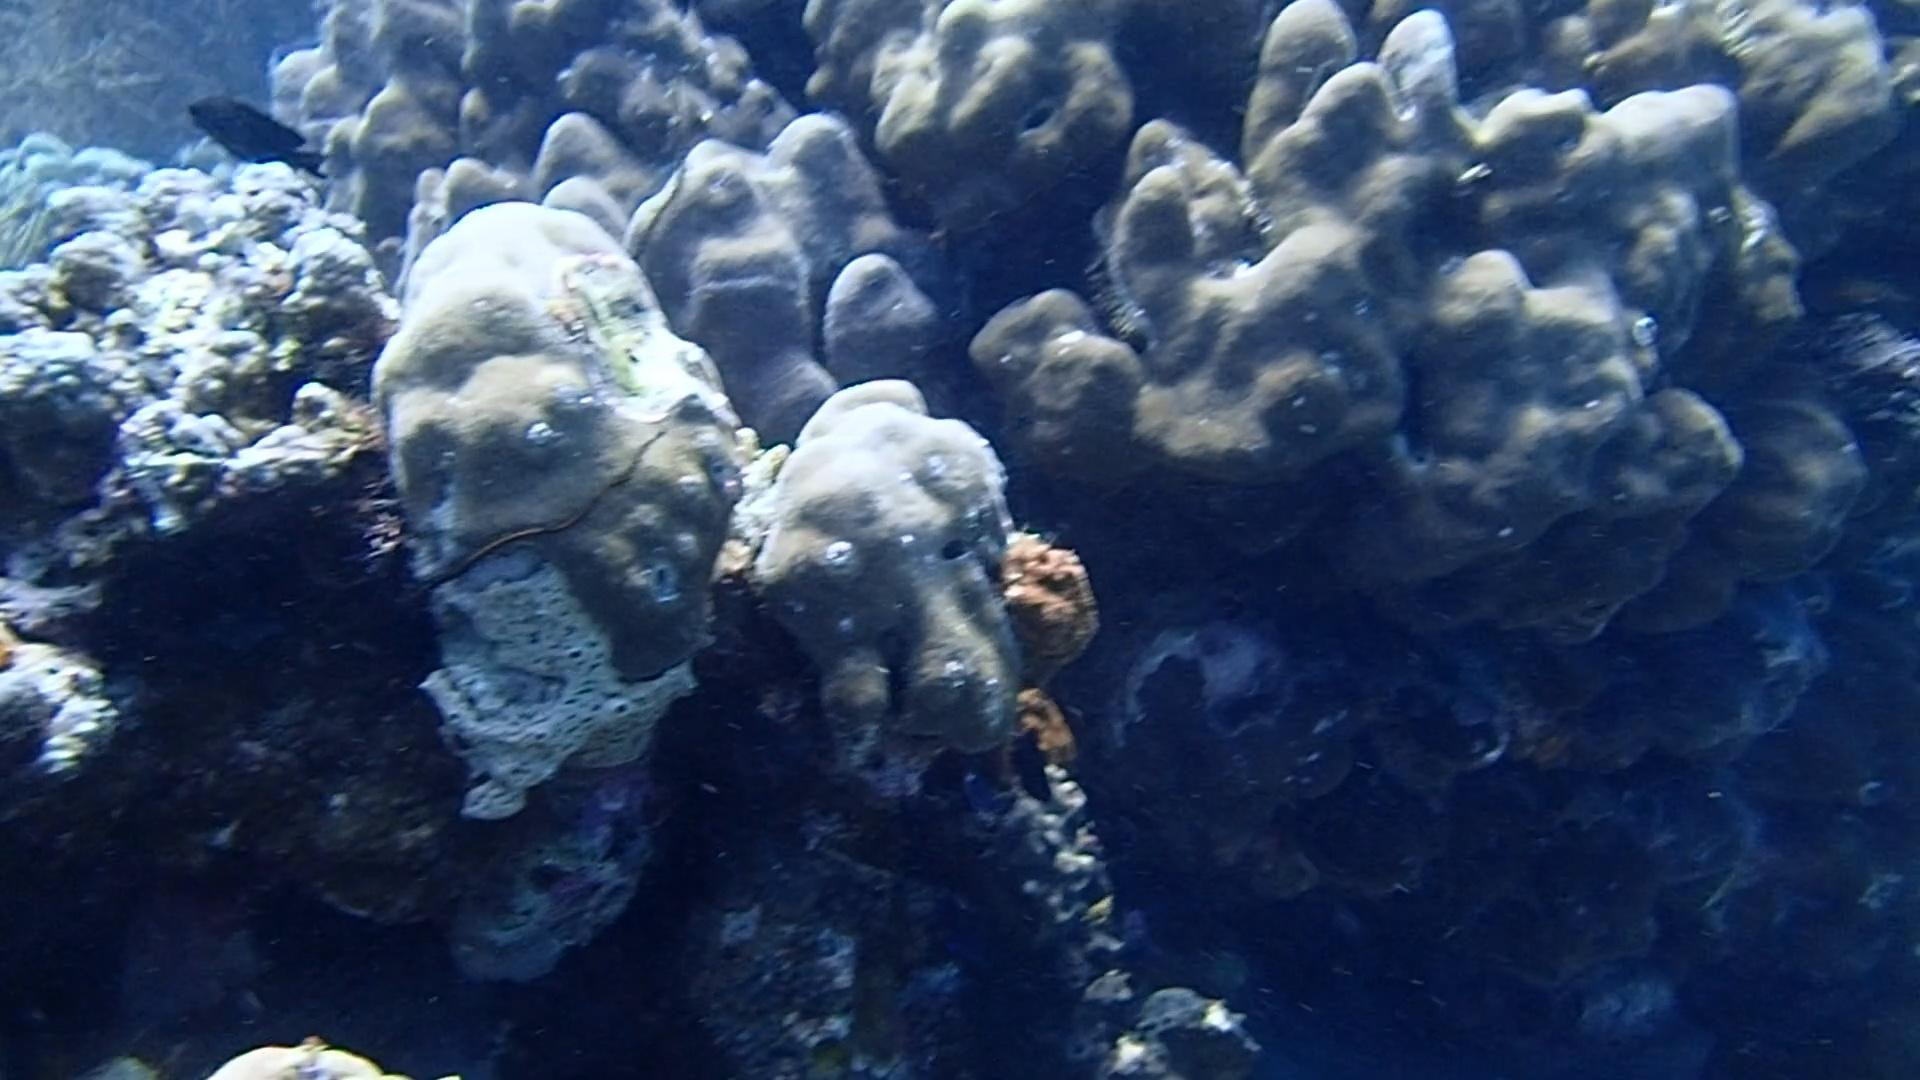Dark Fish: (173, 83, 352, 186), (1002, 725, 1067, 812)
